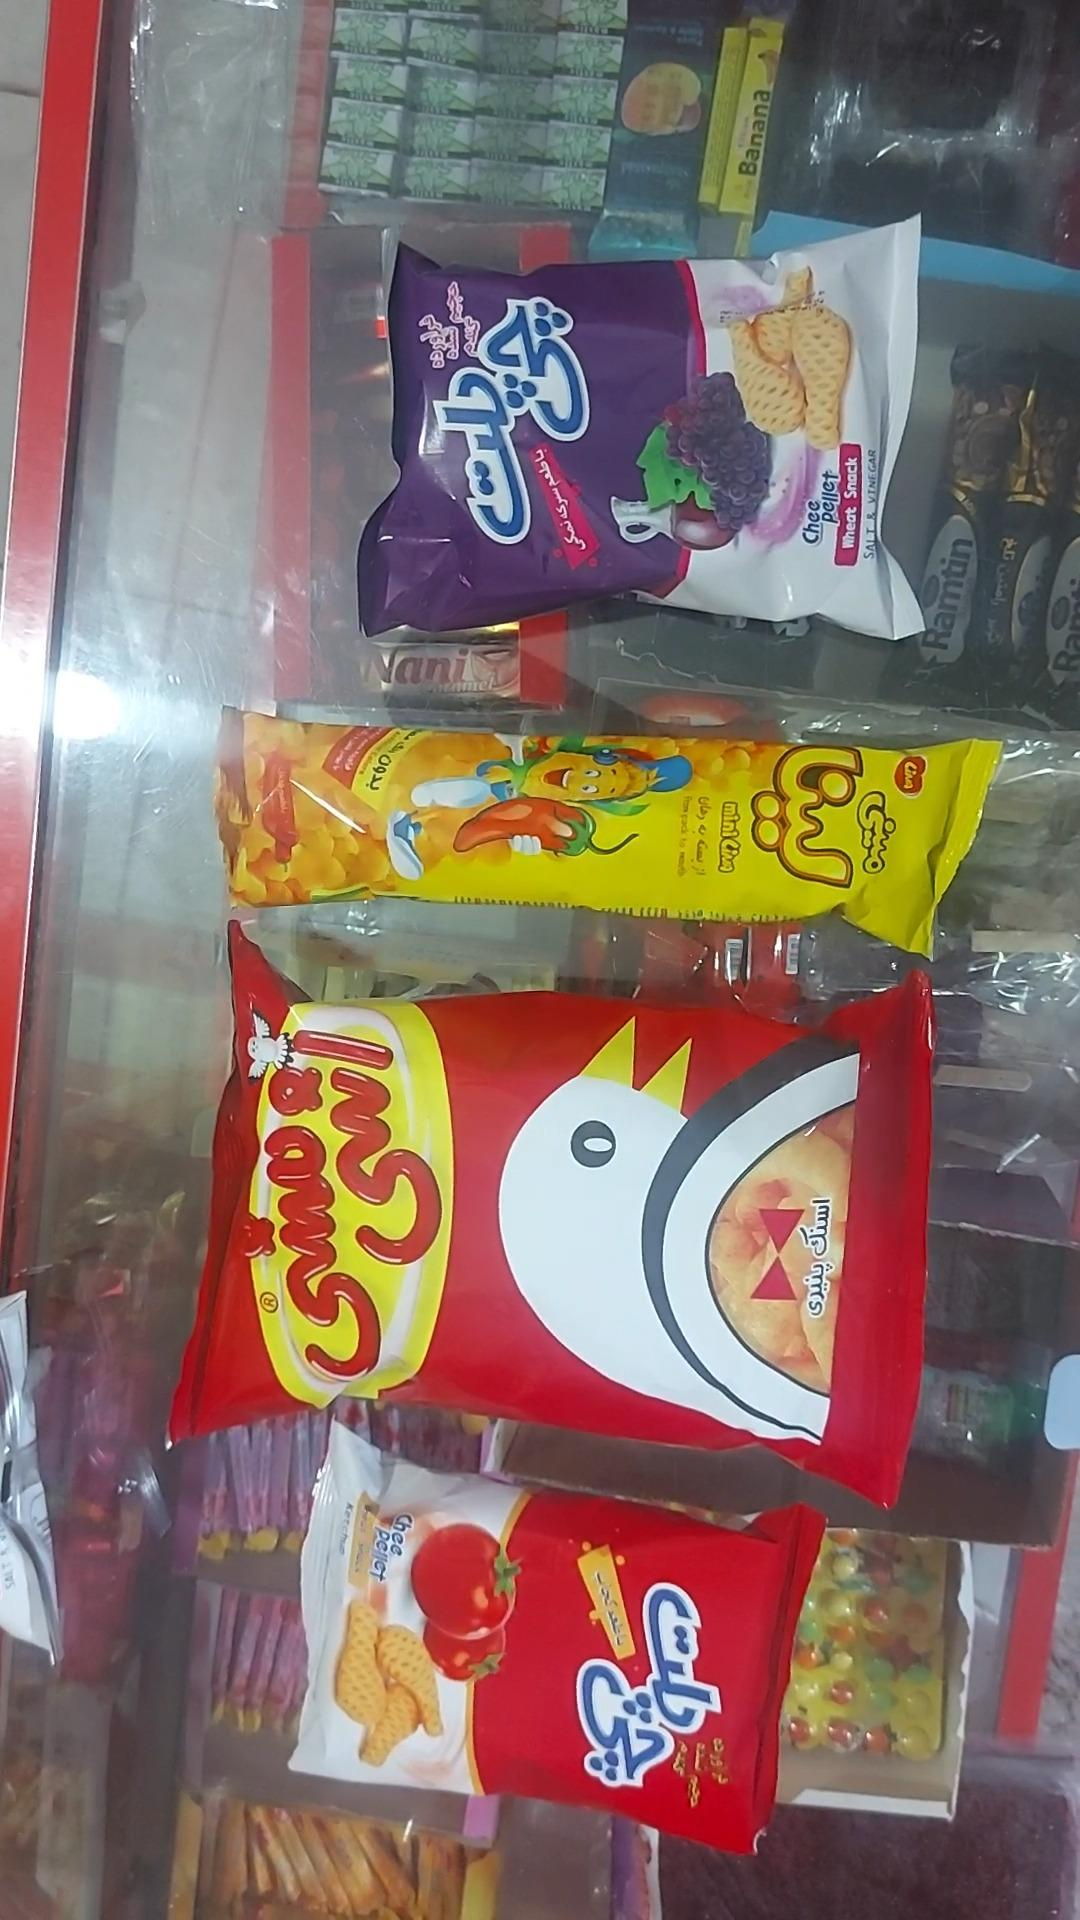Ashi Mashi snacks: (166, 920, 934, 1511)
Chee pellet ketchup: (286, 1418, 825, 1858)
Chee pellet vinegar: (357, 218, 924, 642)
Mini Lina: (214, 707, 1002, 959)
